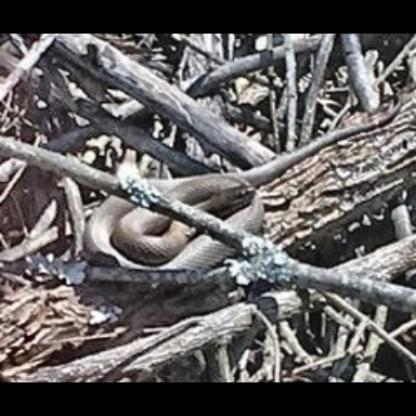Snake: (82, 165, 272, 288)
